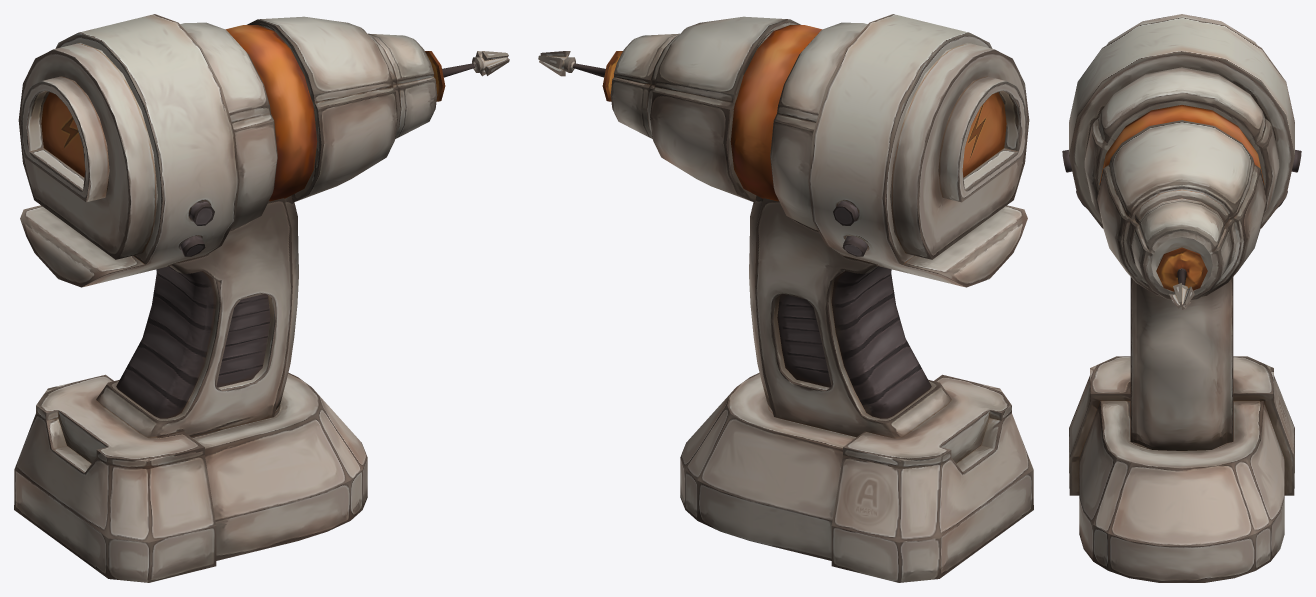
Rendered from Shurup.fbx.
The picture shows the model from 3 angles, left to right: view 1: azimuth 30°, elevation 25°; view 2: azimuth 150°, elevation 25°; view 3: azimuth 270°, elevation 25°; orthographic projection. The views are drawn at different scales.
Parts seen in each view (by area): view 1: Cube_005, Cylinder_014; view 2: Cube_005, Cylinder_014; view 3: Cube_005, Cylinder_014.
Part boxes in pixels (x1=…): Cube_005: x1=14, y1=14, x2=437, y2=582; Cylinder_014: x1=425, y1=51, x2=509, y2=101; Cube_005: x1=610, y1=14, x2=1033, y2=582; Cylinder_014: x1=538, y1=51, x2=622, y2=101; Cube_005: x1=1062, y1=14, x2=1301, y2=582; Cylinder_014: x1=1156, y1=247, x2=1207, y2=309.
Bounding box in the file's own units: 249 × 124 × 260.
Materials: 1 (1 with a texture image).
